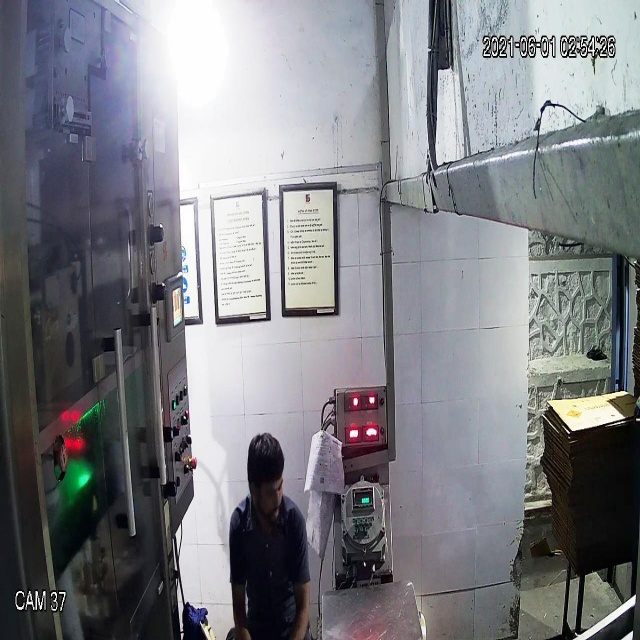Sin_gafas: (246, 472, 289, 506)
